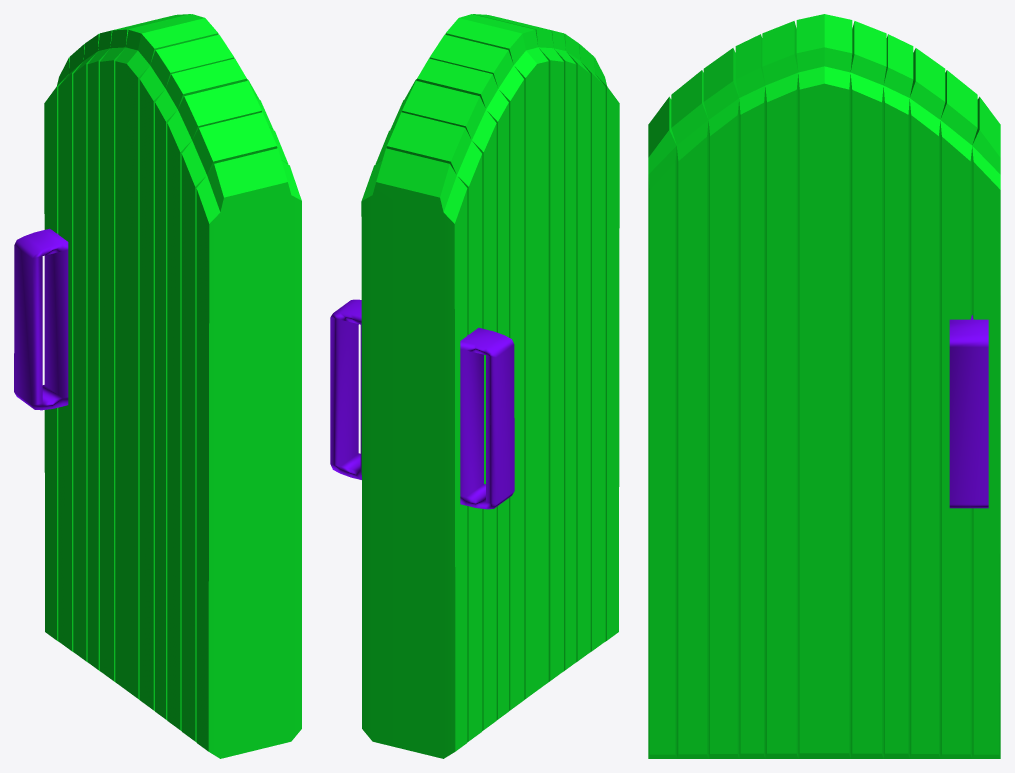
File: NEW_door_textured.fbx
3 renders of one model, left to right at view 1: azimuth 30°, elevation 25°; view 2: azimuth 150°, elevation 25°; view 3: azimuth 270°, elevation 25°, orthographic. The views are drawn at different scales.
Parts seen in each view (by area): view 1: polySurface39 (×2); view 2: polySurface39 (×2); view 3: polySurface39 (×2).
Part boxes in pixels (bbox=[...]): polySurface39 (×2): bbox=[14, 14, 301, 758]; polySurface39 (×2): bbox=[330, 14, 619, 758]; polySurface39 (×2): bbox=[648, 14, 1000, 758].
Bounding box in the file's own units: 0.915 × 3.5 × 1.57.
